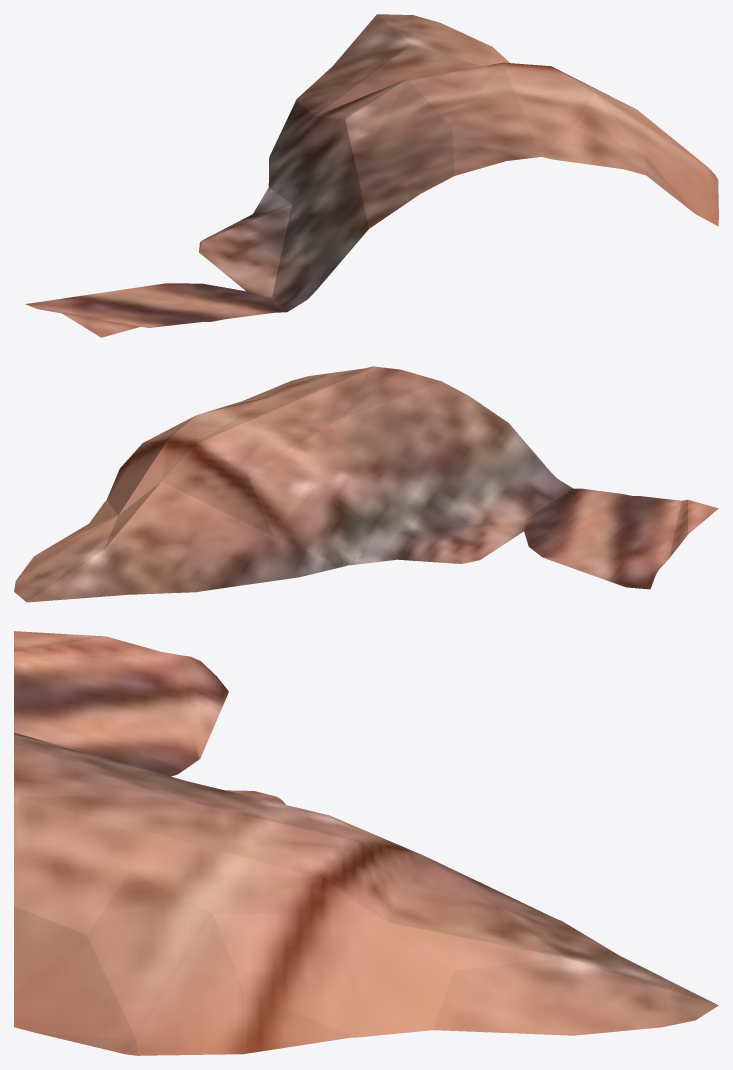
The picture shows the model from 3 angles, top to bottom: view 1: azimuth 30°, elevation 25°; view 2: azimuth 150°, elevation 25°; view 3: azimuth 270°, elevation 25°; orthographic projection. The views are drawn at different scales.
Size of the model in its own units: 0.4963 by 0.0833 by 0.3901.
Materials: 1 (1 with a texture image).
